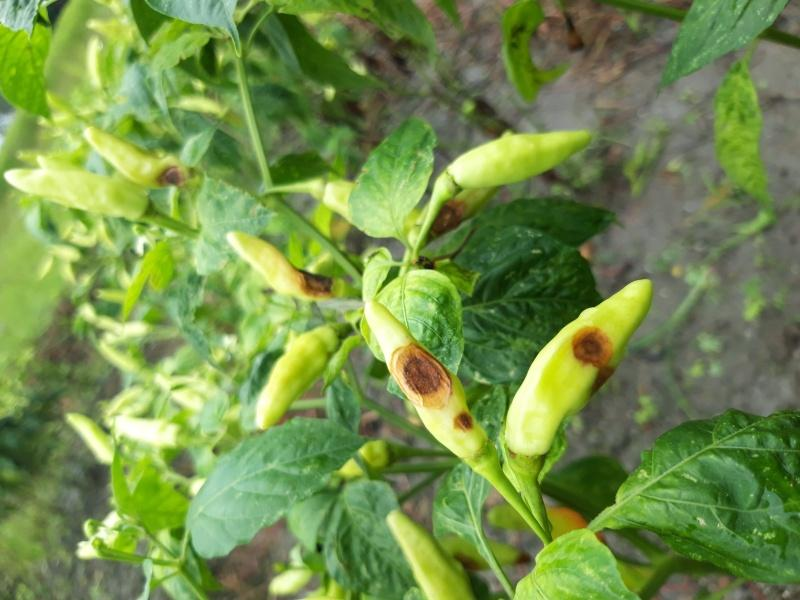antraknosa: (503, 278, 652, 455), (365, 301, 489, 460), (225, 230, 337, 301), (82, 124, 190, 190)
cabai_normal: (254, 325, 339, 429), (444, 130, 592, 188), (3, 168, 150, 222), (386, 509, 470, 600)
